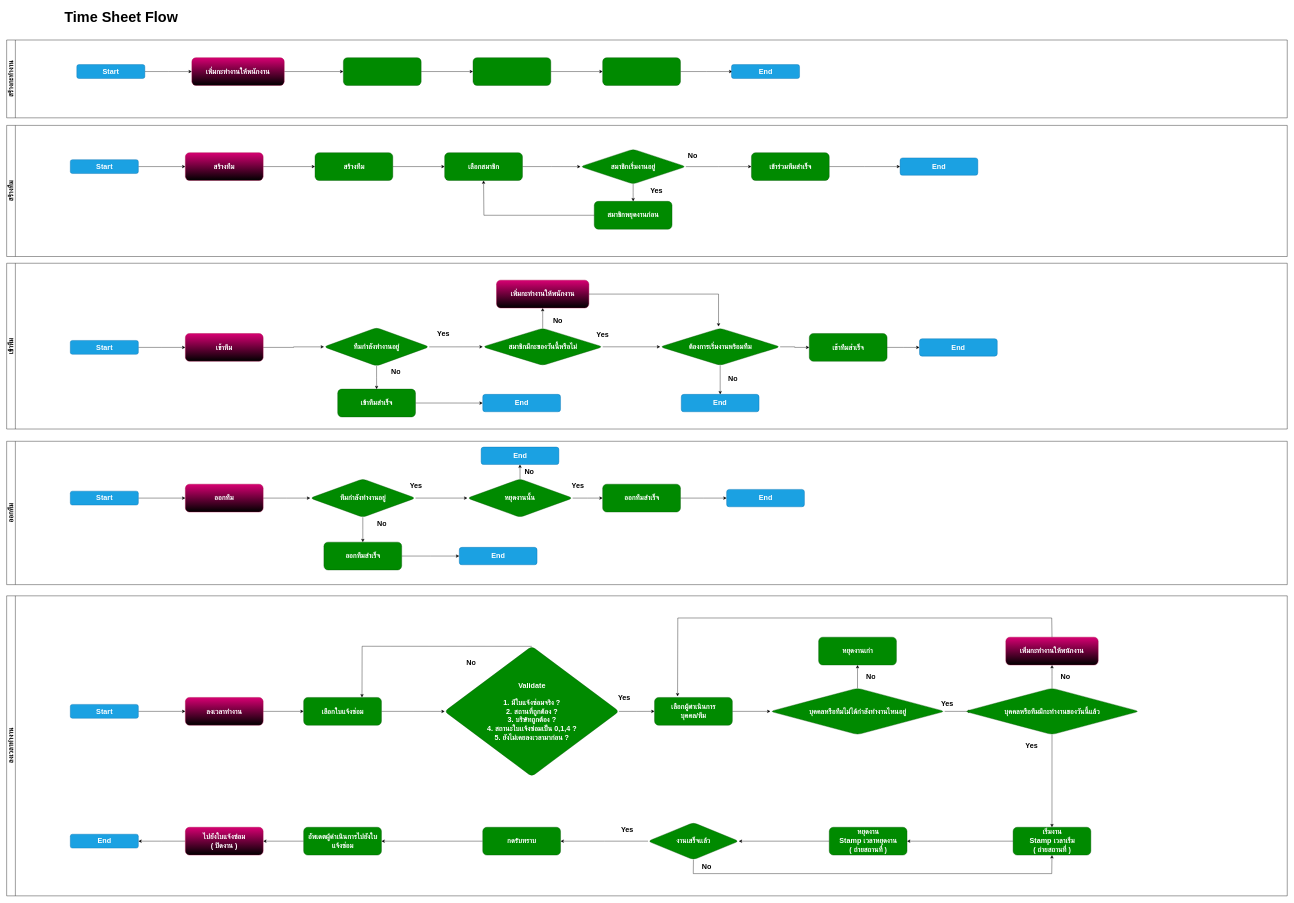
This 1294x903 diagram has some shape labels left out. The shapes that lost their labels are listed below. From the top down, each one's centre as x and y in pixels, then its label:
At point 382,71: "เลือกวันที่".
At point 512,71: "เลือกพนักงาน".
At point 641,71: "เพิ่มกะทำงาน".
